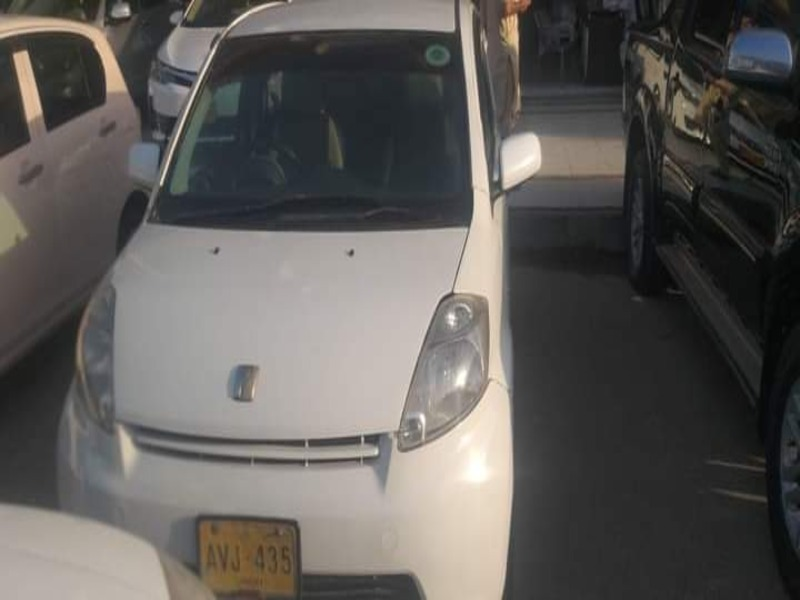License Plate: (195, 514, 307, 600)
